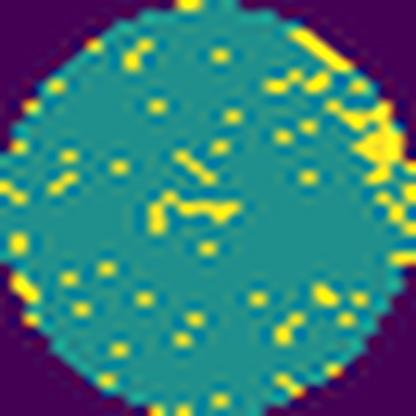Edge-Loc: (325, 96, 416, 189)
